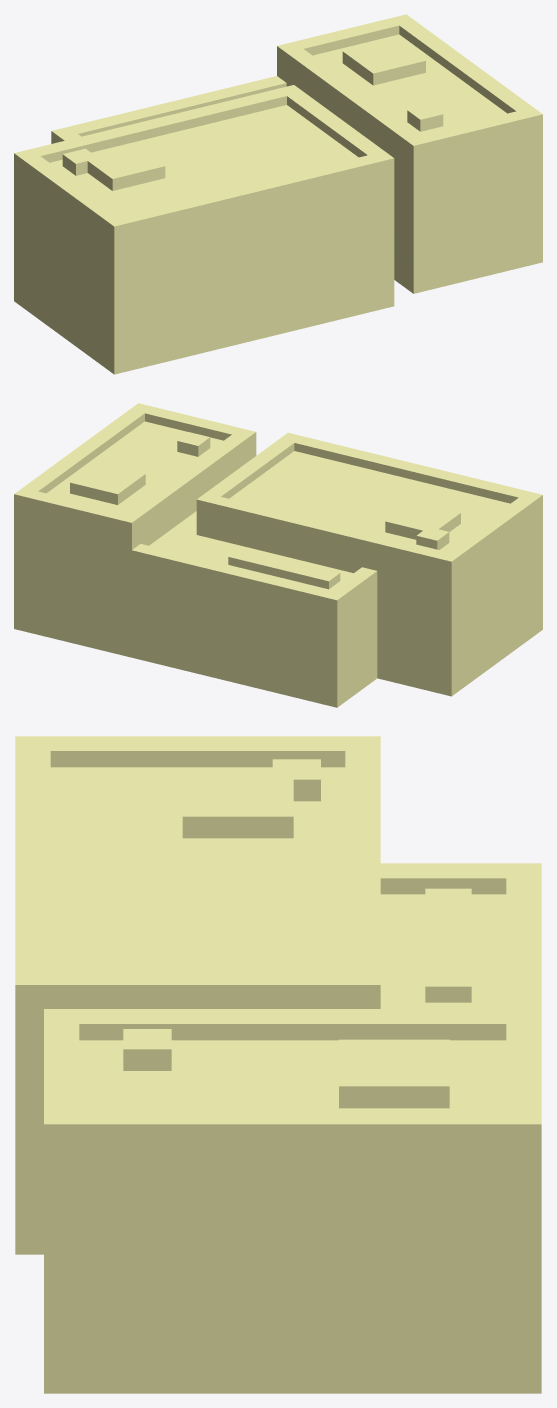
File: MangaKa Props - F_S_ScifiBuilding_34.glb
3 views of the same model, one above another, from view 1: azimuth 30°, elevation 25°; view 2: azimuth 150°, elevation 25°; view 3: azimuth 270°, elevation 25° (orthographic). The views are drawn at different scales.
Parts seen in each view (by area): view 1: F_S_ScifiBuilding_34_blueScreen, F_S_ScifiBuilding_34001_blueScreen; view 2: F_S_ScifiBuilding_34_blueScreen, F_S_ScifiBuilding_34001_blueScreen; view 3: F_S_ScifiBuilding_34_blueScreen, F_S_ScifiBuilding_34001_blueScreen.
Boxes of the visible parts, <box> form: F_S_ScifiBuilding_34_blueScreen: <box>14,14,542,374</box>; F_S_ScifiBuilding_34001_blueScreen: <box>62,38,443,190</box>; F_S_ScifiBuilding_34_blueScreen: <box>14,403,542,707</box>; F_S_ScifiBuilding_34001_blueScreen: <box>70,432,460,589</box>; F_S_ScifiBuilding_34_blueScreen: <box>15,736,541,1393</box>; F_S_ScifiBuilding_34001_blueScreen: <box>123,759,471,1108</box>.
Bounding box in the file's own units: 6.83 × 2.26 × 3.91.
